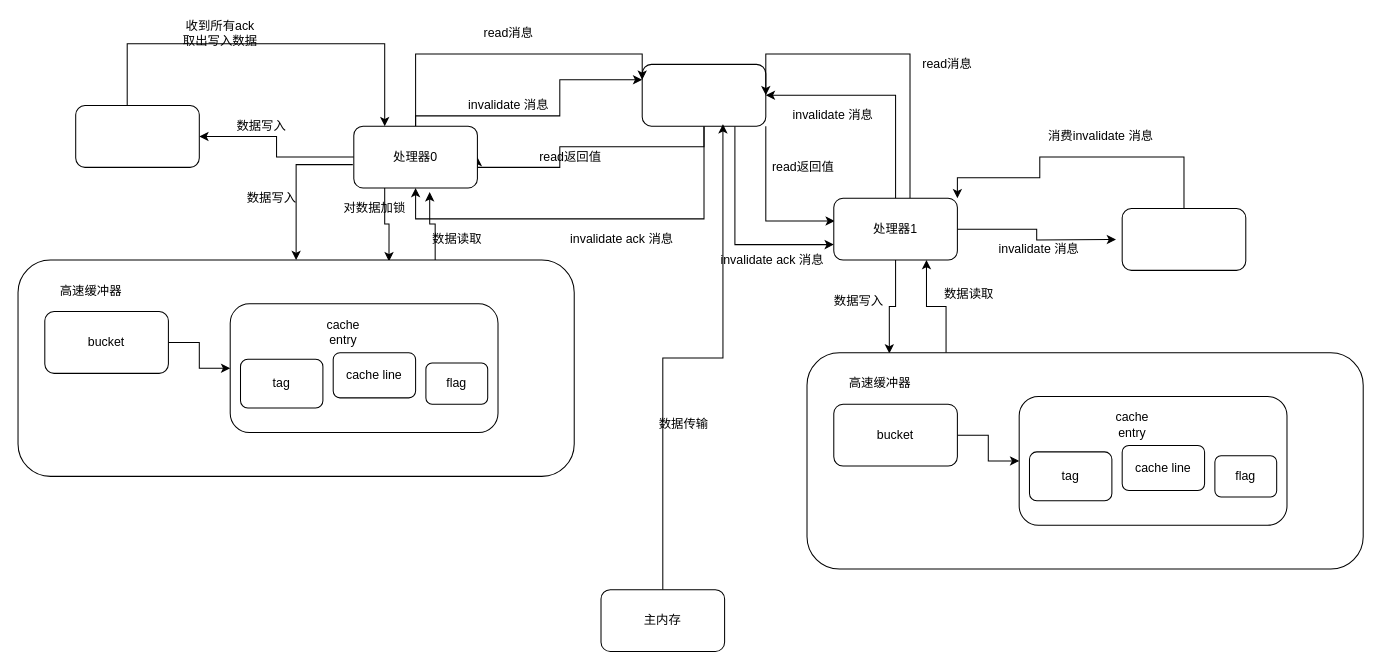
Some shapes in this 1381 by 670 pixel diagram are drawn without their labels. Each missing label, with the centre of its shape:
"写缓冲器" goes at point 137,136.
"总线" goes at point 703,94.
"无效队列" goes at point 1183,239.
